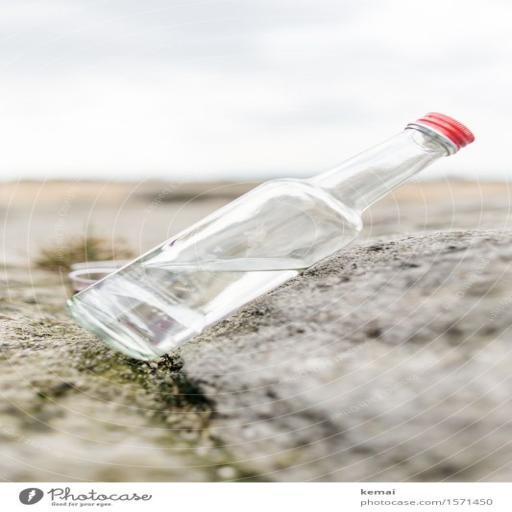bottle: (54, 105, 480, 363)
